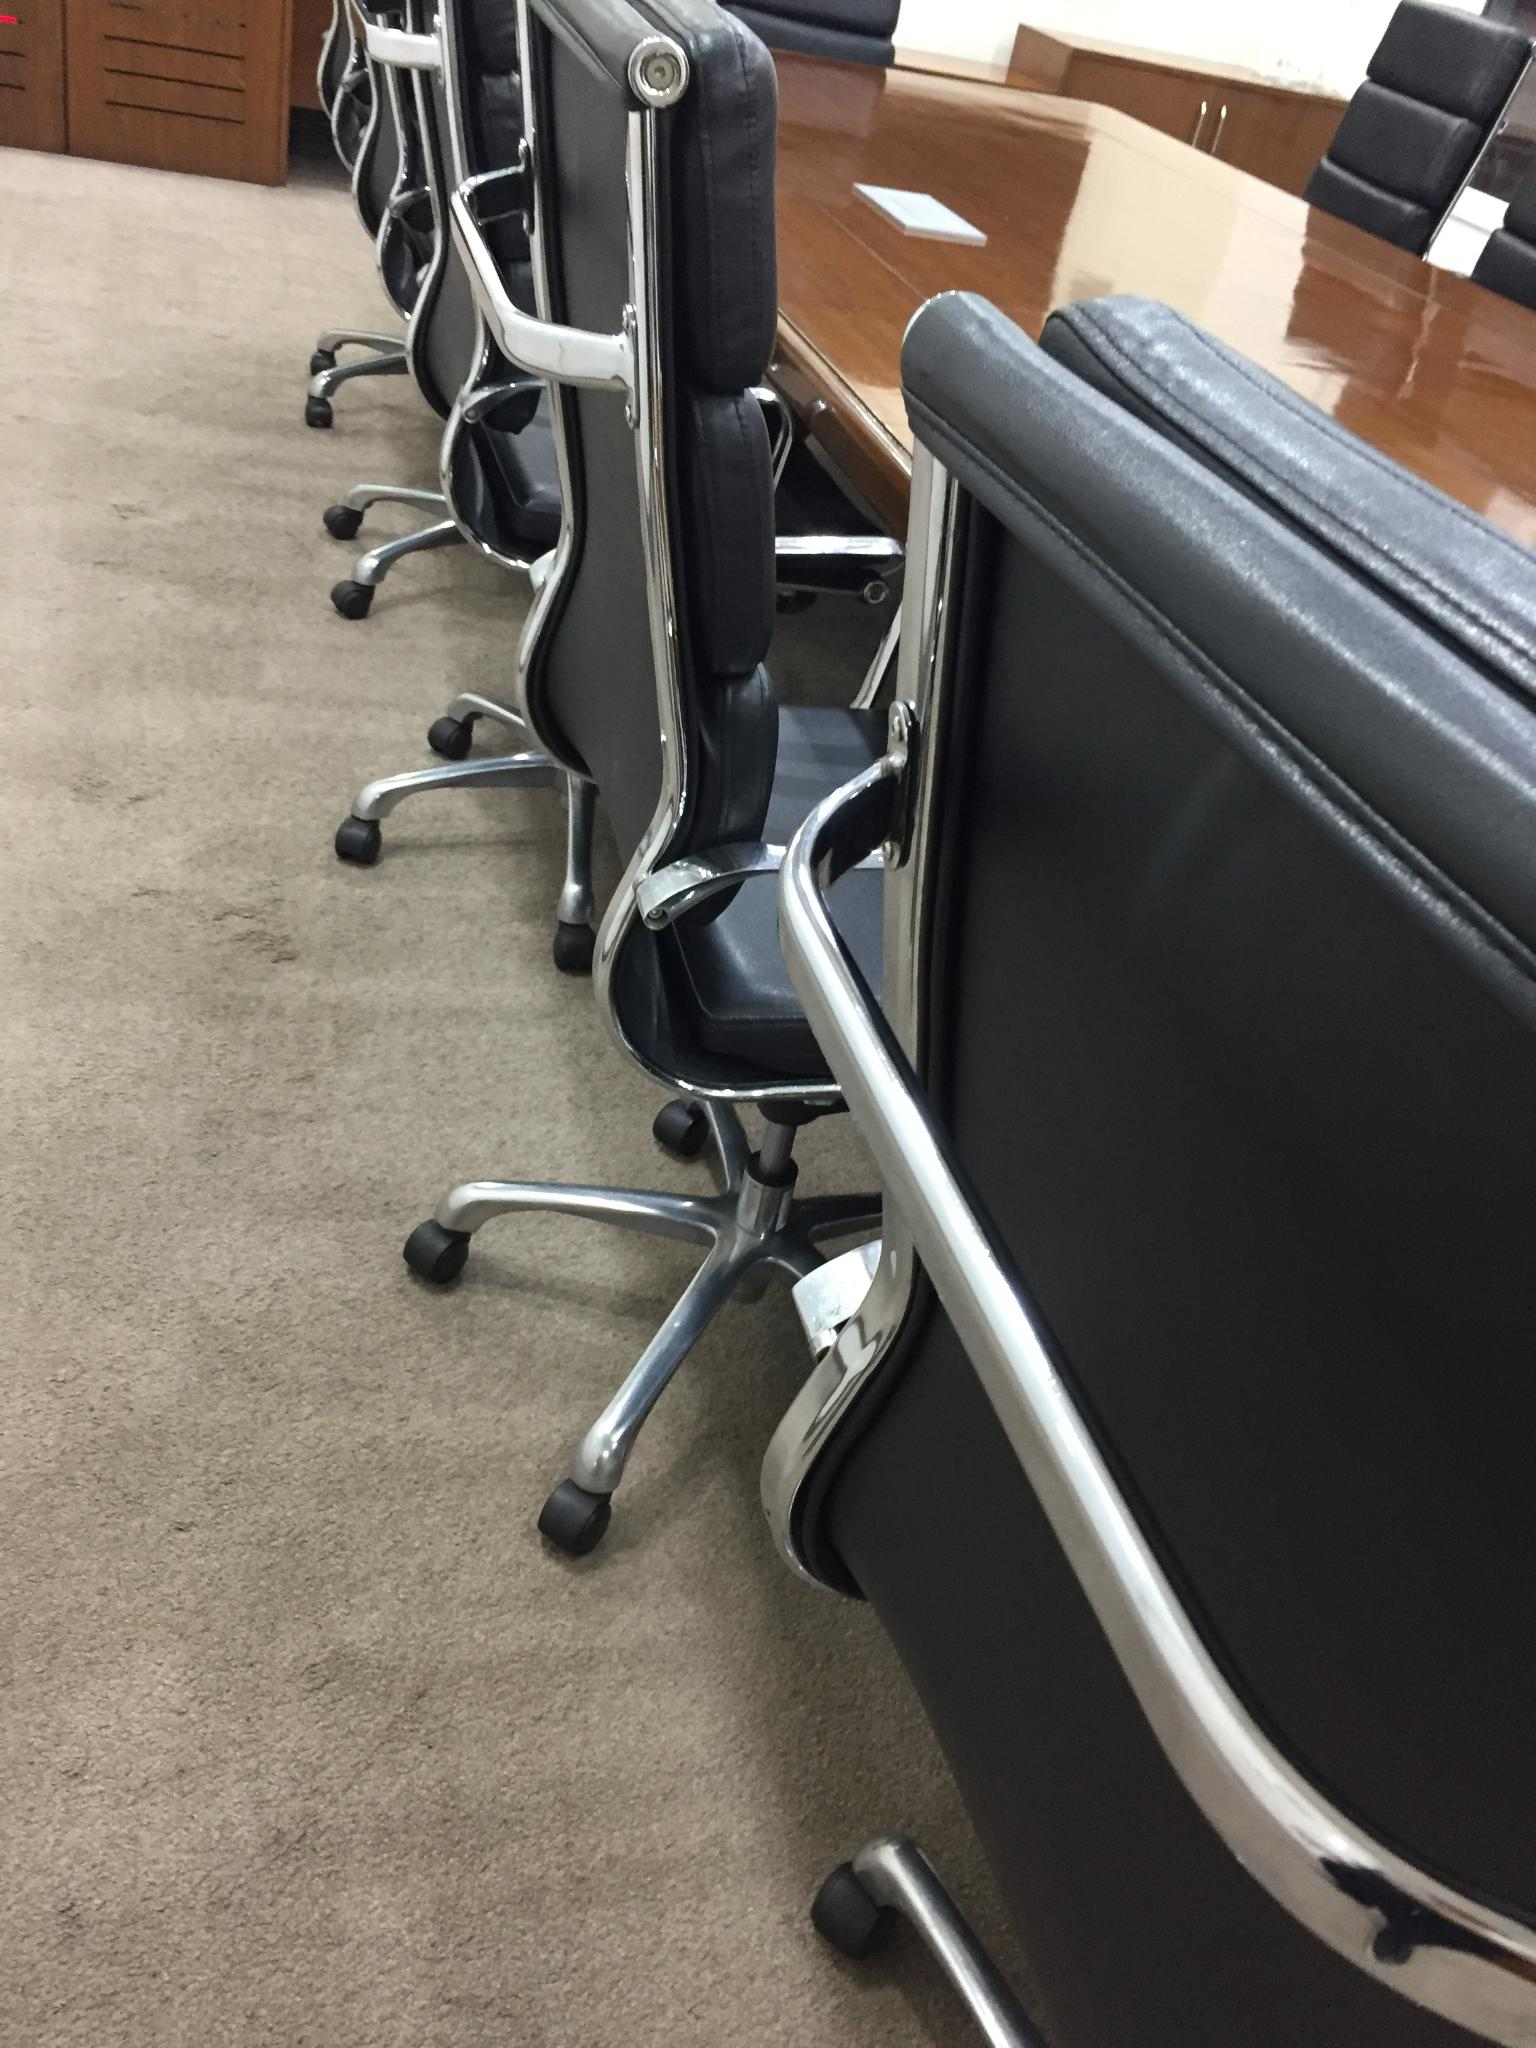chair: (758, 287, 1534, 2045), (402, 0, 905, 1556), (1300, 0, 1533, 260)
